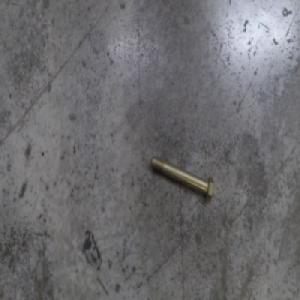Bolt: (150, 151, 215, 202)
